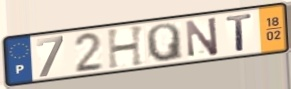2: (72, 31, 104, 74)
7: (36, 35, 66, 79)
H: (105, 23, 146, 71)
N: (184, 15, 221, 59)
Q: (144, 22, 186, 64)
T: (224, 12, 255, 53)
